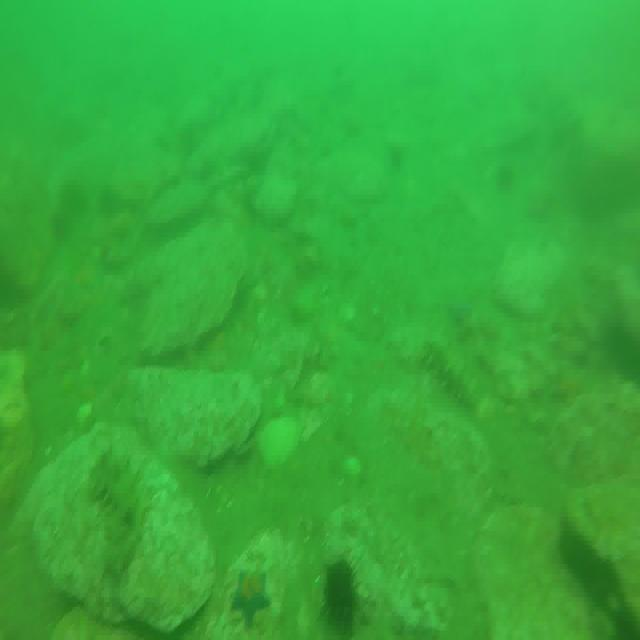echinus: (324, 563, 358, 622)
holothurian: (90, 454, 147, 570), (422, 330, 478, 410)
starfish: (233, 565, 270, 627)
